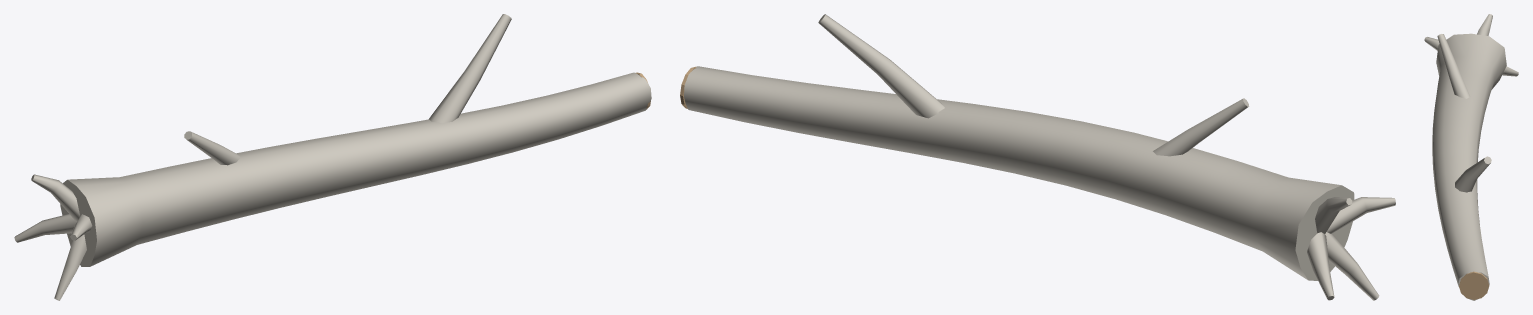
File: driftwood_log.glb
3 views of the same model, side by side, from view 1: azimuth 30°, elevation 25°; view 2: azimuth 150°, elevation 25°; view 3: azimuth 270°, elevation 25° (orthographic). The views are drawn at different scales.
Visible parts, largest first — view 1: driftwood-log-drift; view 2: driftwood-log-drift; view 3: driftwood-log-drift, driftwood-log-timber.
Part boxes in pixels (x1,y1,x2,y2): driftwood-log-drift: (14,14,651,300); driftwood-log-drift: (684,14,1395,300); driftwood-log-drift: (1424,14,1518,300); driftwood-log-timber: (1459,271,1489,299).
Bounding box in the file's own units: 2.67 × 0.6643 × 0.4617.
